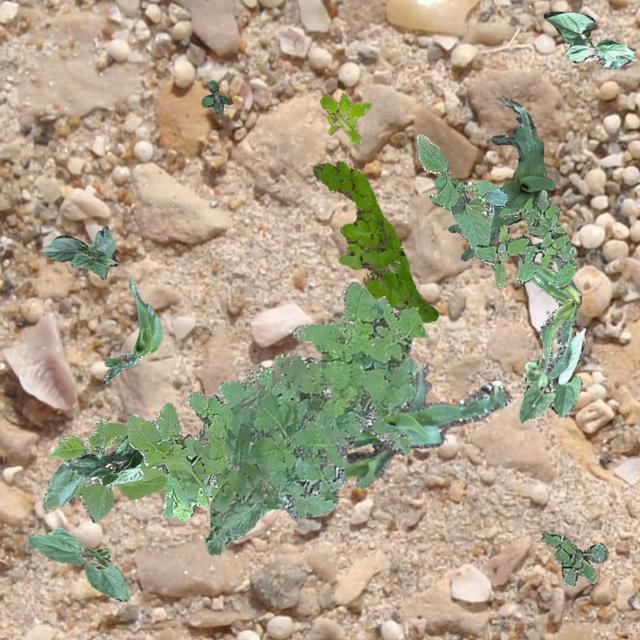crop: (342, 363, 510, 488), (448, 98, 554, 260), (42, 417, 166, 522), (416, 133, 506, 250), (28, 526, 128, 600), (100, 276, 162, 382), (518, 326, 586, 422), (530, 258, 580, 378), (542, 11, 636, 68), (40, 226, 118, 280), (64, 434, 142, 484)
weed: (204, 281, 426, 554), (312, 160, 438, 322), (126, 390, 230, 520), (474, 188, 574, 288), (540, 530, 606, 584), (318, 90, 371, 144), (200, 78, 232, 114)
